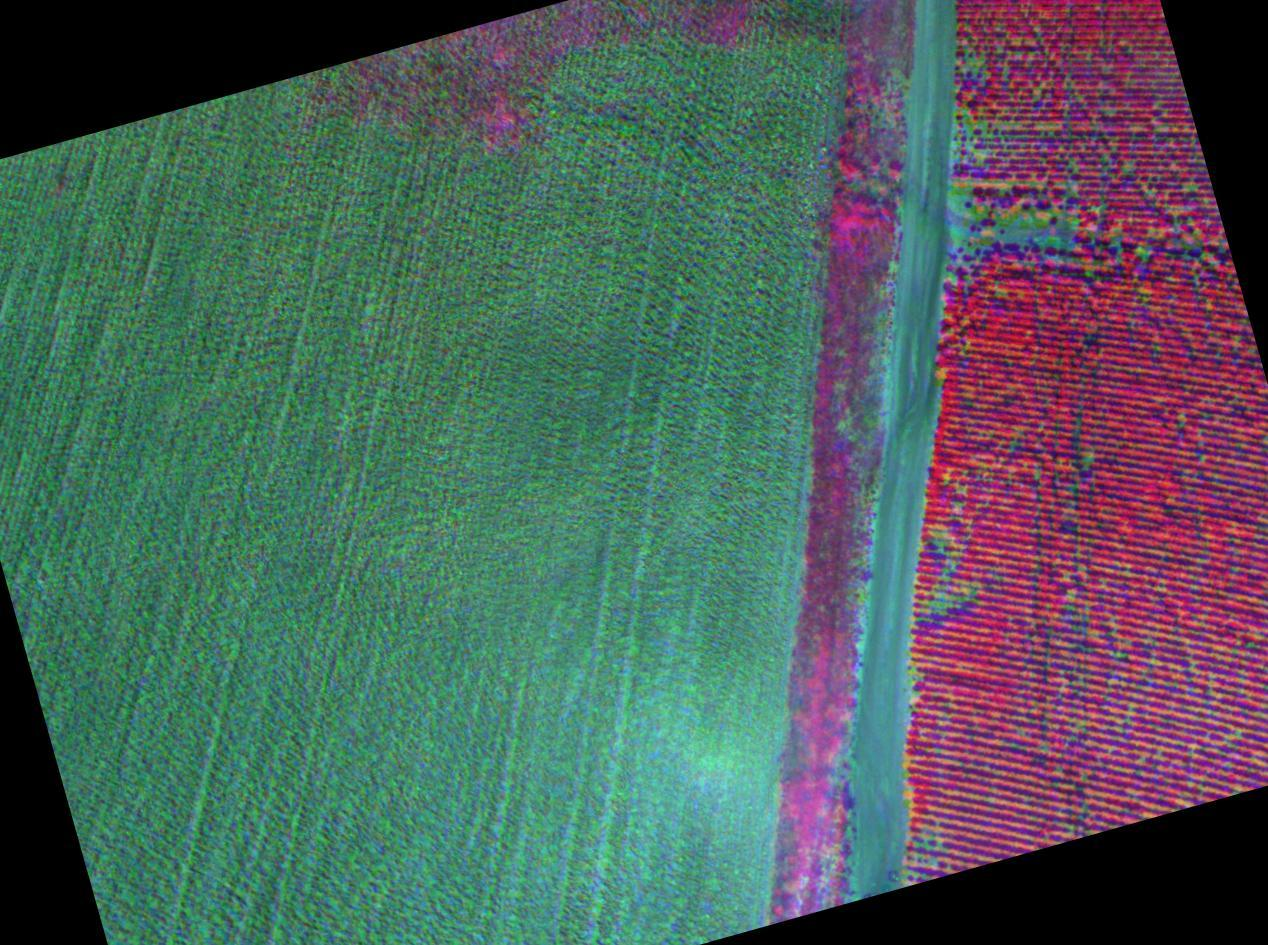dc: (938, 593, 949, 606), (1184, 183, 1196, 190), (1085, 456, 1092, 464), (1127, 706, 1133, 714)
